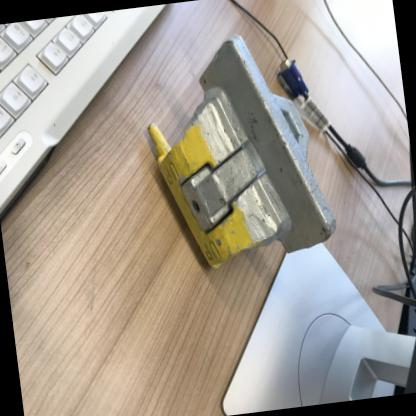Twistlock: (130, 20, 346, 281)
